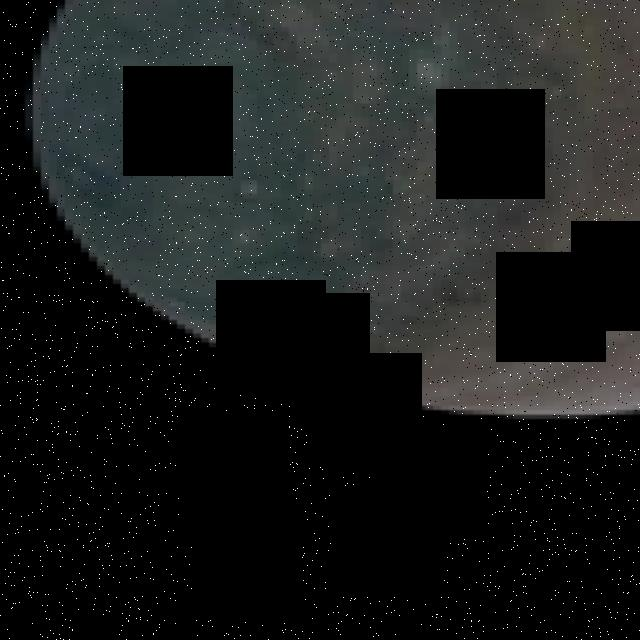Jupiter: (40, 0, 640, 419)
